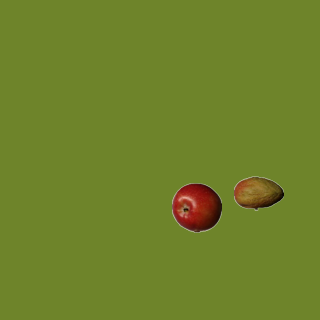Apple Braeburn: (171, 182, 221, 232)
Papaya: (233, 168, 283, 218)
